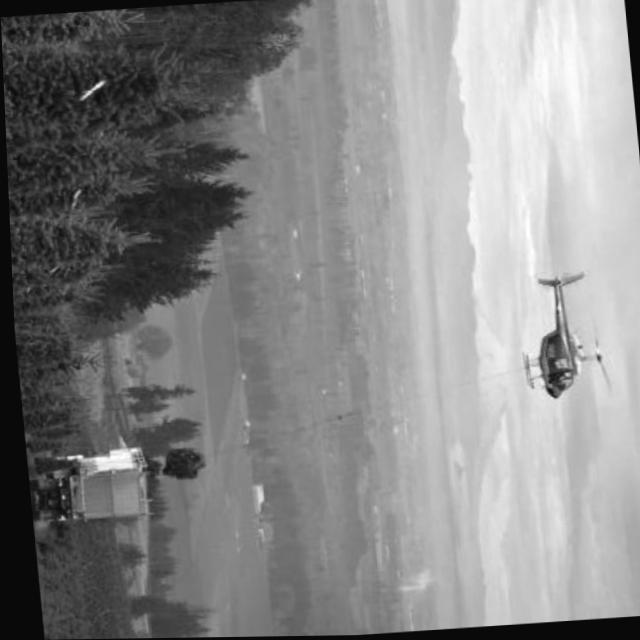helikopter: (505, 263, 623, 415)
